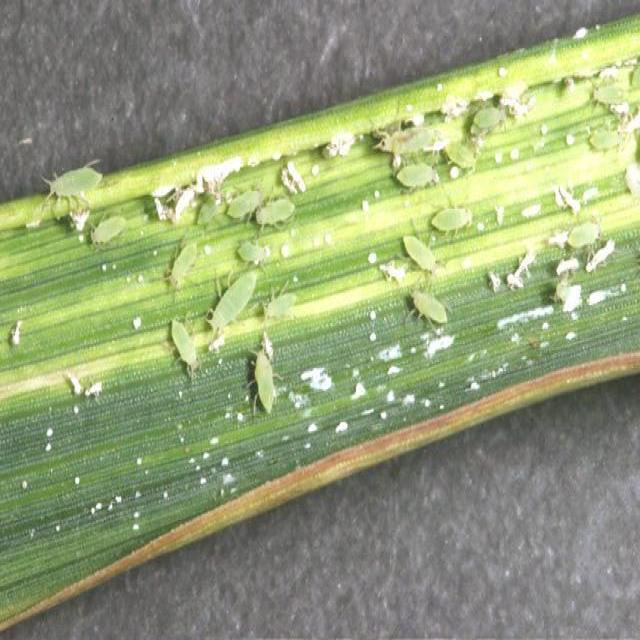Aphid-Grown-: (202, 252, 268, 351), (36, 150, 112, 212), (238, 339, 290, 424), (401, 276, 454, 347), (165, 306, 207, 392), (399, 227, 449, 294), (156, 231, 206, 296), (430, 198, 490, 250), (388, 150, 445, 202), (259, 271, 306, 332), (218, 178, 268, 231), (248, 190, 300, 237), (464, 97, 518, 138), (83, 212, 133, 256), (557, 202, 600, 251), (228, 234, 276, 277), (442, 137, 482, 182), (589, 116, 626, 162)
